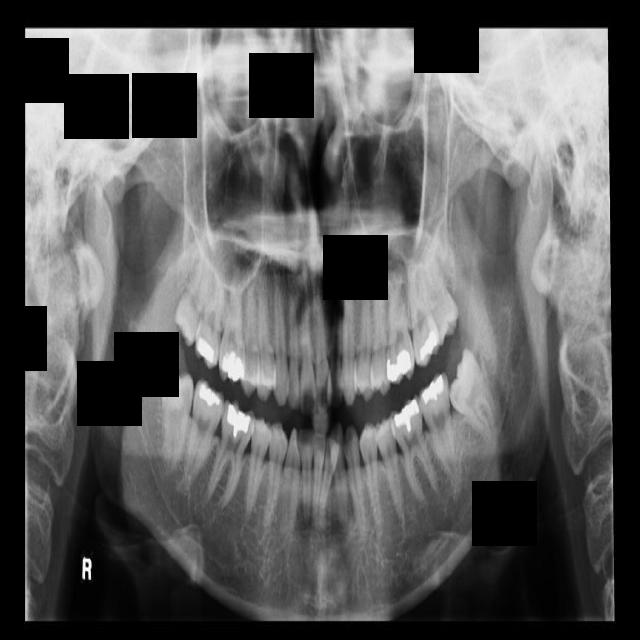3M ESPE Implant: (166, 237, 229, 348)
52: (379, 393, 439, 451), (407, 368, 463, 425), (211, 396, 264, 448), (216, 341, 249, 386), (386, 340, 415, 386), (194, 380, 224, 424), (196, 323, 222, 368), (414, 325, 440, 367)
73: (626, 612, 630, 624)
BioHorizons Implant: (407, 259, 442, 367)
BioLife Implant: (414, 241, 465, 349)
Biomet 3i Implant: (432, 347, 510, 445)
Blue Sky Bio Implant: (416, 372, 461, 488)
Caries: (193, 263, 229, 369)
Implant: (181, 377, 227, 490)
Keystone Dental Implant: (158, 371, 194, 470)
